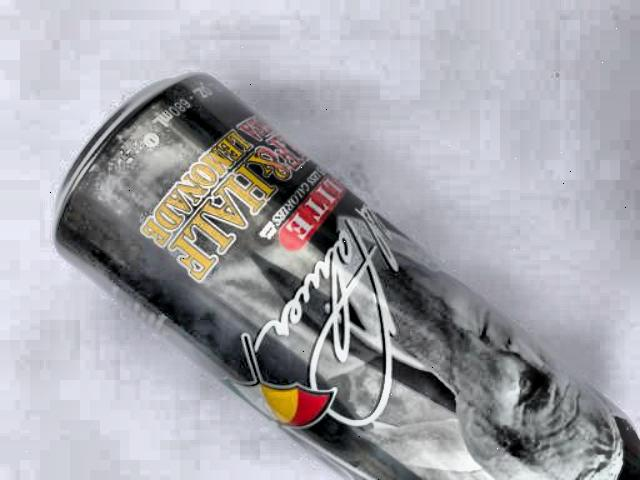Bottles: (65, 52, 640, 480)
